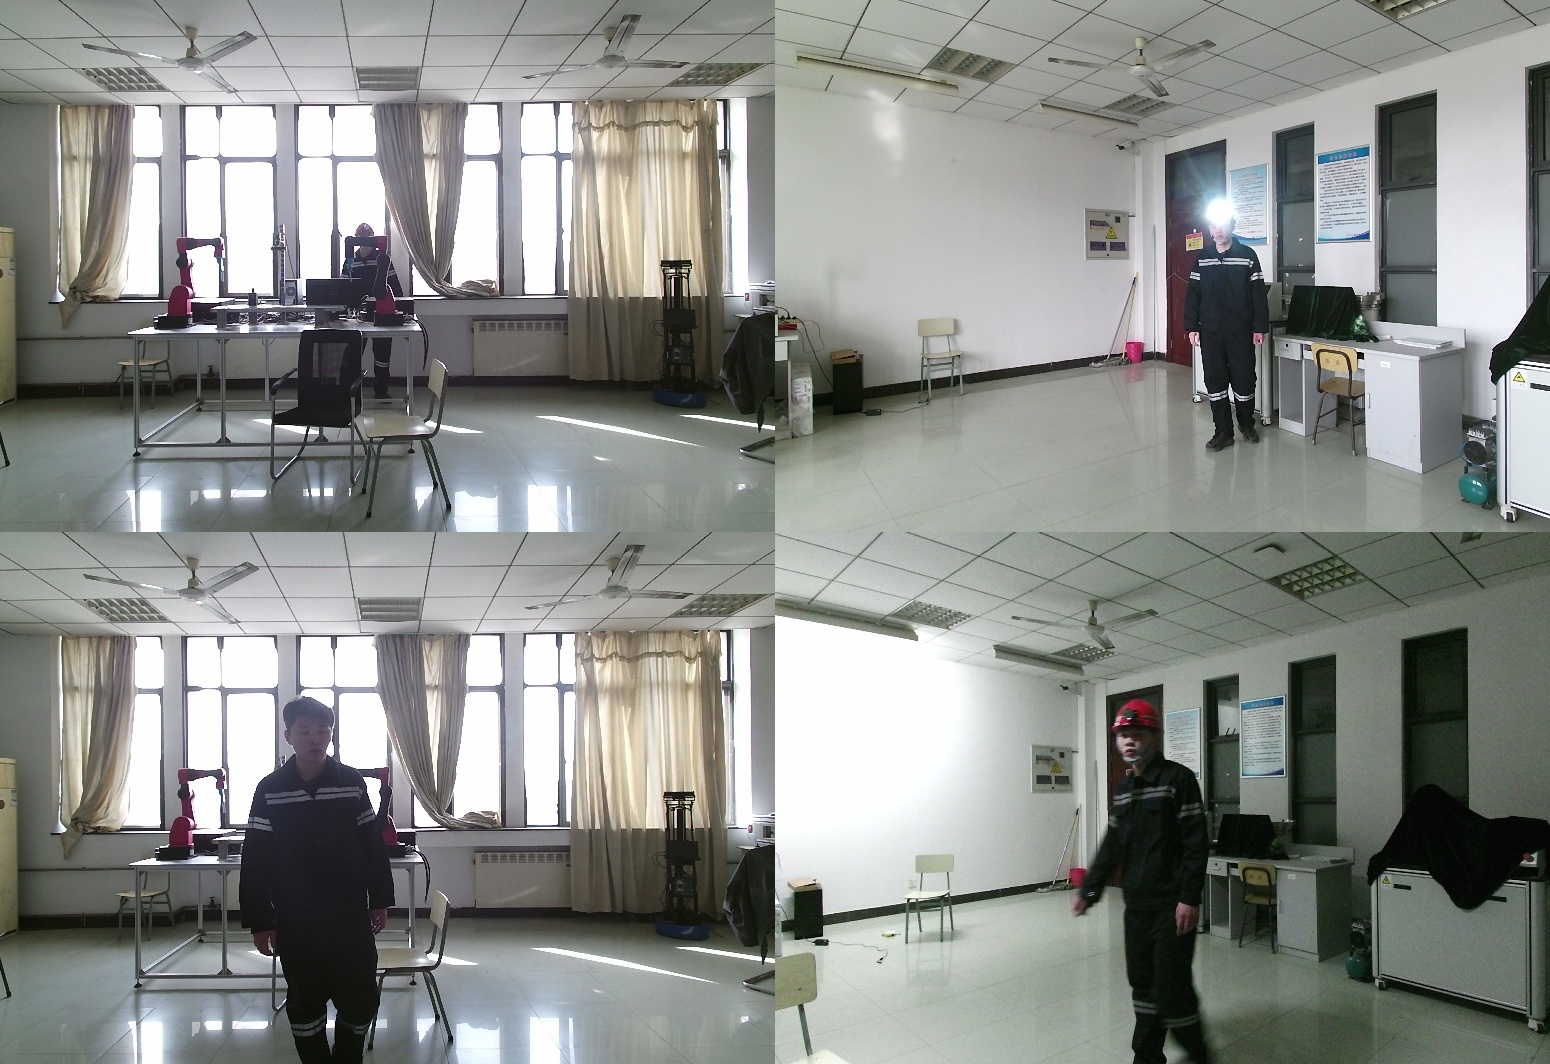person: (244, 700, 401, 1064), (1074, 699, 1230, 1064), (1191, 205, 1281, 452), (343, 224, 403, 398)
